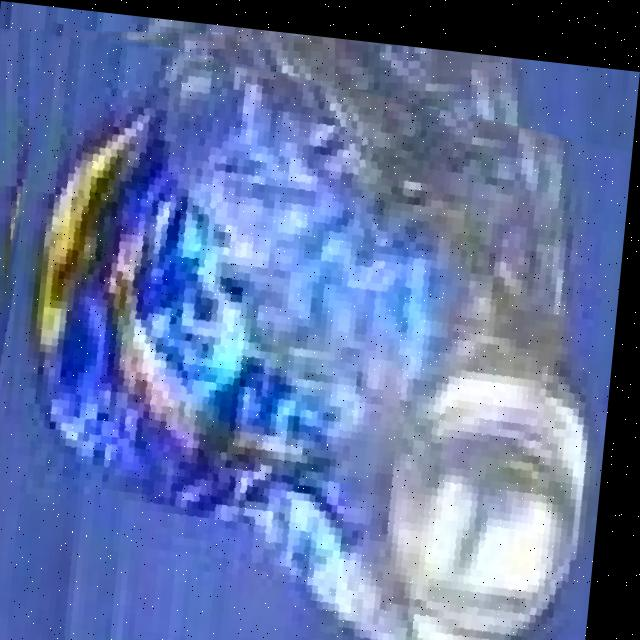can: (17, 43, 611, 640)
